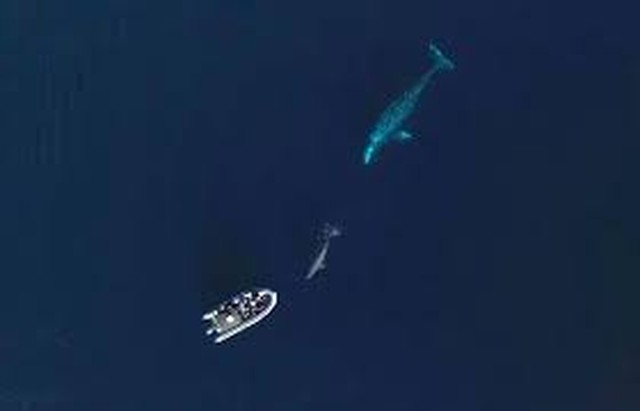whale: (356, 36, 458, 174), (301, 210, 347, 286)
